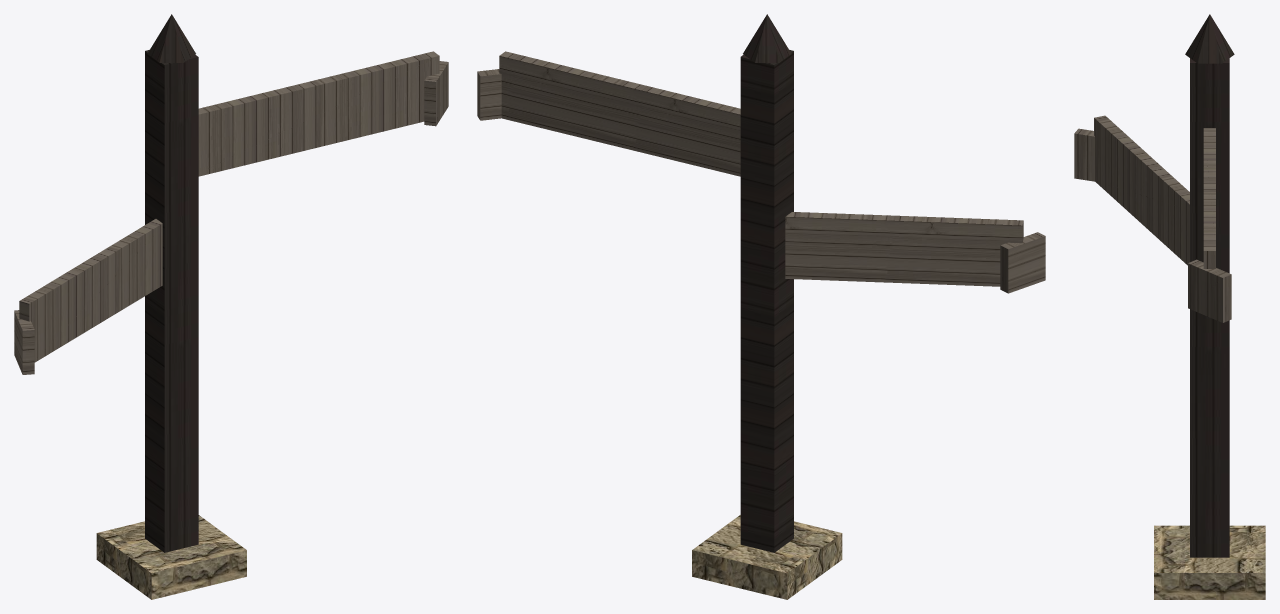
File: signpost_01.glb
The picture shows the model from 3 angles, left to right: view 1: azimuth 30°, elevation 25°; view 2: azimuth 150°, elevation 25°; view 3: azimuth 270°, elevation 25°; orthographic projection.
Parts seen in each view (by area): view 1: signpost_01; view 2: signpost_01; view 3: signpost_01.
Part boxes in pixels (x1,y1,x2,y2): signpost_01: (14,14,448,599); signpost_01: (477,14,1045,599); signpost_01: (1074,14,1265,599).
Bounding box in the file's own units: 2.35 × 2.5 × 0.7713.
Materials: 3 (3 with a texture image).
